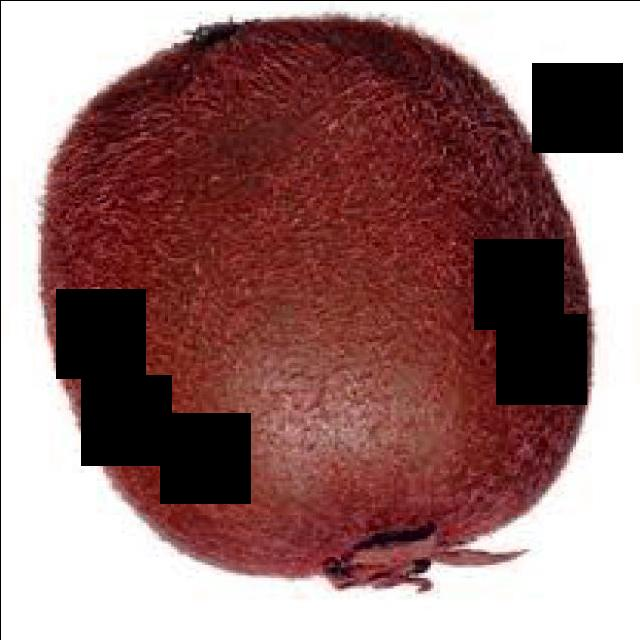kiwi: (44, 22, 595, 584)
